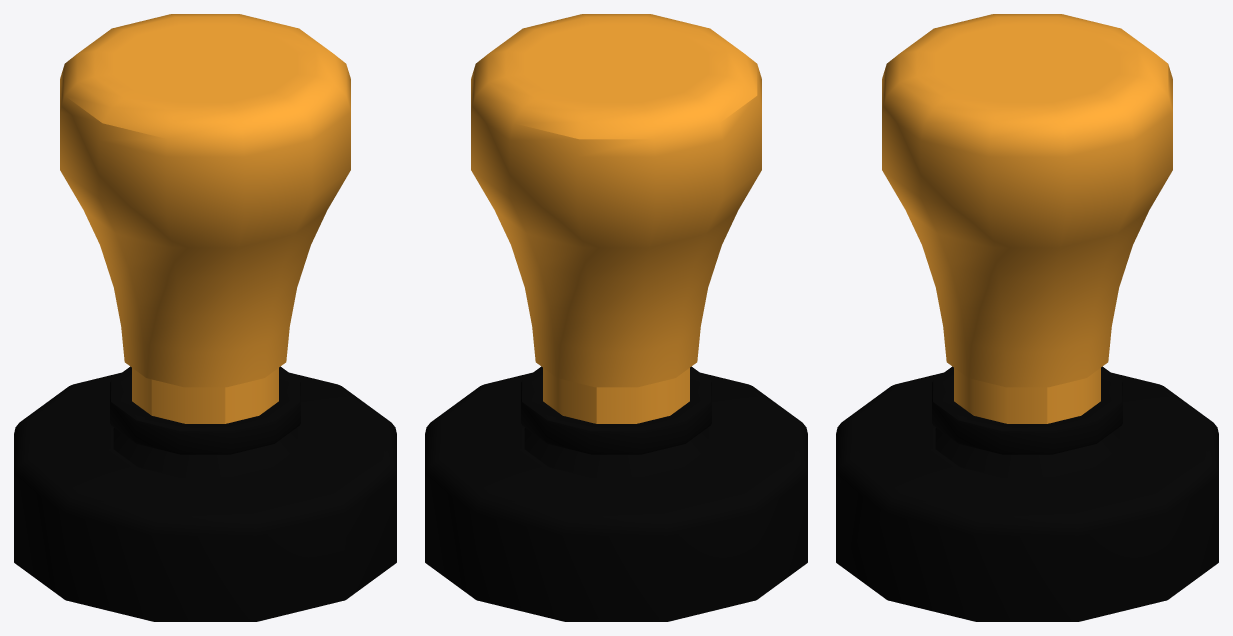
File: StampleAuditory.fbx
3 renders of one model, left to right at view 1: azimuth 30°, elevation 25°; view 2: azimuth 150°, elevation 25°; view 3: azimuth 270°, elevation 25°, orthographic.
Parts seen in each view (by area): view 1: StampleAuditory; view 2: StampleAuditory; view 3: StampleAuditory.
Part boxes in pixels (x1=…): StampleAuditory: x1=14, y1=14, x2=396, y2=621; StampleAuditory: x1=425, y1=14, x2=807, y2=621; StampleAuditory: x1=836, y1=14, x2=1218, y2=621.
Size of the model in its own units: 4.17 by 5.77 by 4.17.
